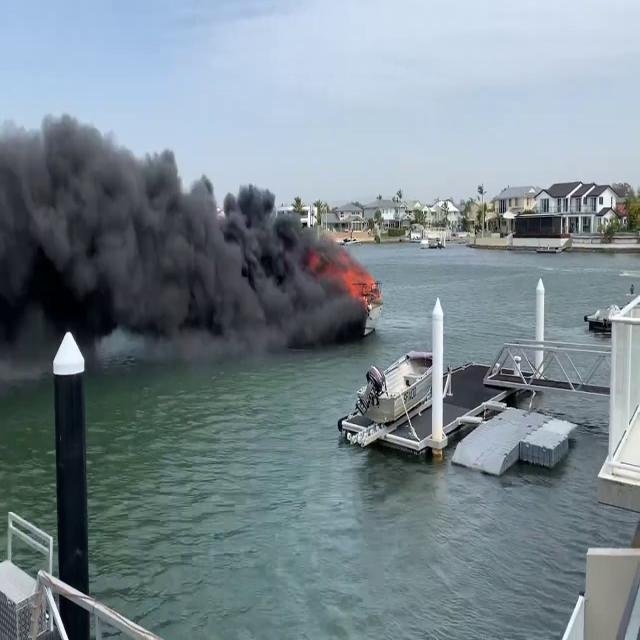Fire: (338, 261, 380, 308)
Smoke: (0, 101, 350, 372)
